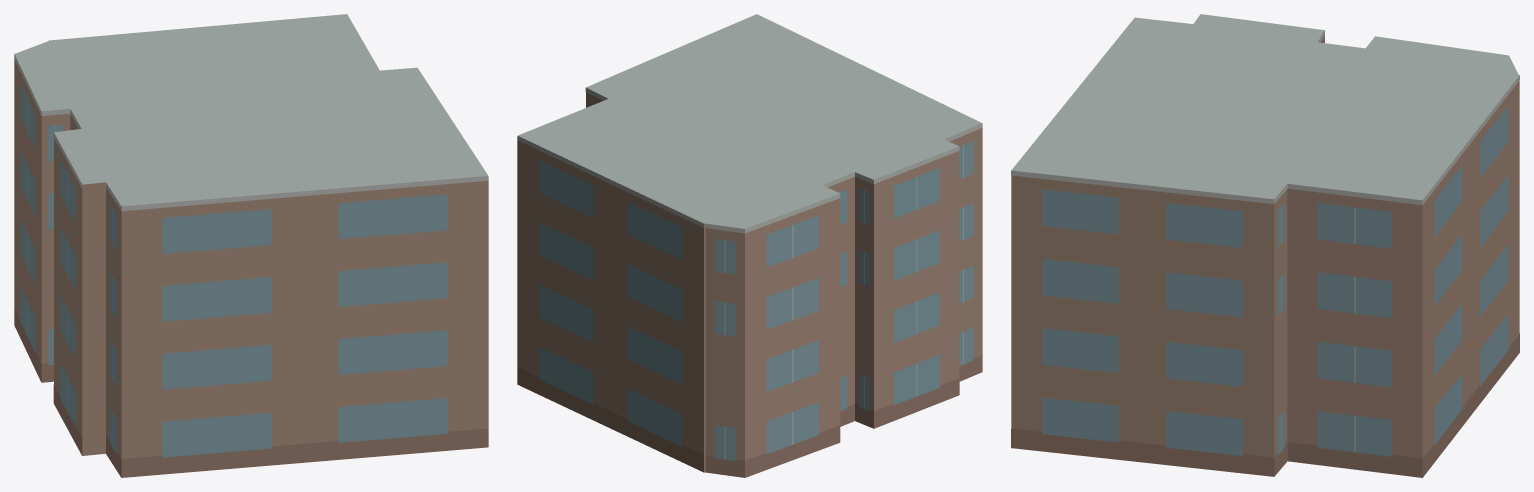
File: survey-upis-32930399.glb
The picture shows the model from 3 angles, left to right: view 1: azimuth 30°, elevation 25°; view 2: azimuth 150°, elevation 25°; view 3: azimuth 270°, elevation 25°; orthographic projection. The views are drawn at different scales.
Parts seen in each view (by area): view 1: survey-upis-32930399.tmp; view 2: survey-upis-32930399.tmp; view 3: survey-upis-32930399.tmp.
Boxes of the visible parts, bbox=[...] form: survey-upis-32930399.tmp: bbox=[14, 14, 488, 477]; survey-upis-32930399.tmp: bbox=[517, 14, 982, 477]; survey-upis-32930399.tmp: bbox=[1011, 14, 1519, 477].
Bounding box in the file's own units: 19.74 × 13.7 × 22.76.
